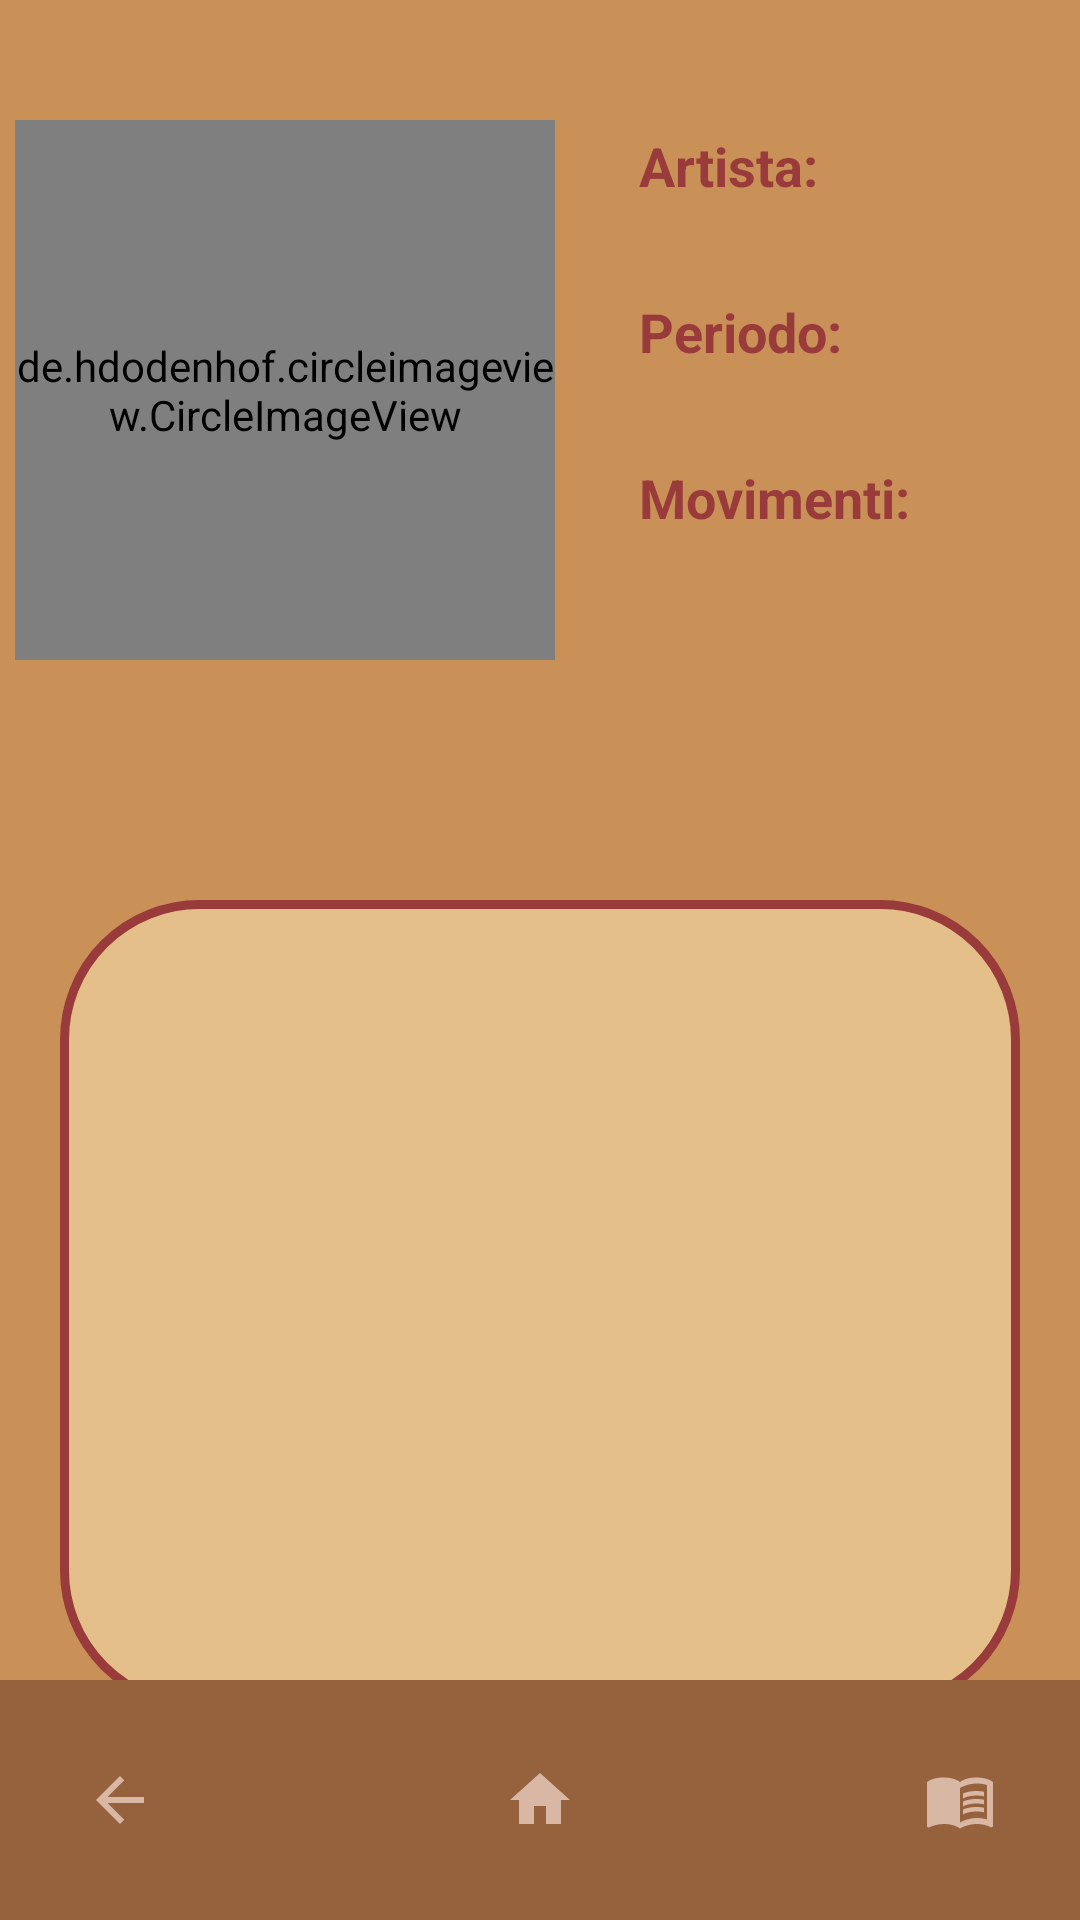

Named icons in this screenshot (1080 × 1920) and their centers, (x=x, y=y):
Back: (x=120, y=1800)
Home: (x=540, y=1798)
